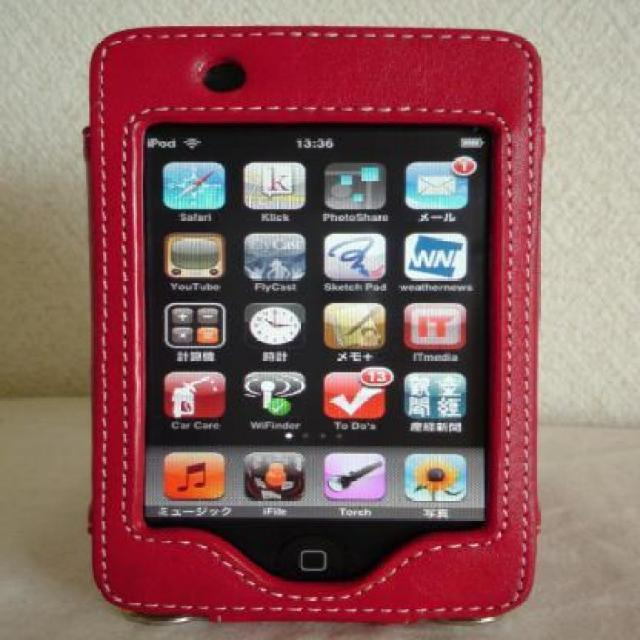phone: (62, 20, 540, 640)
